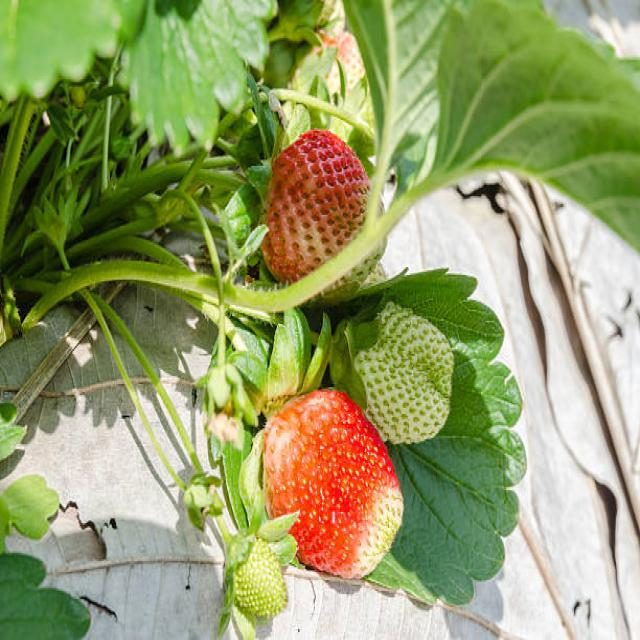Healthy Fruit: (262, 390, 404, 578), (259, 128, 388, 287), (349, 302, 455, 441)
